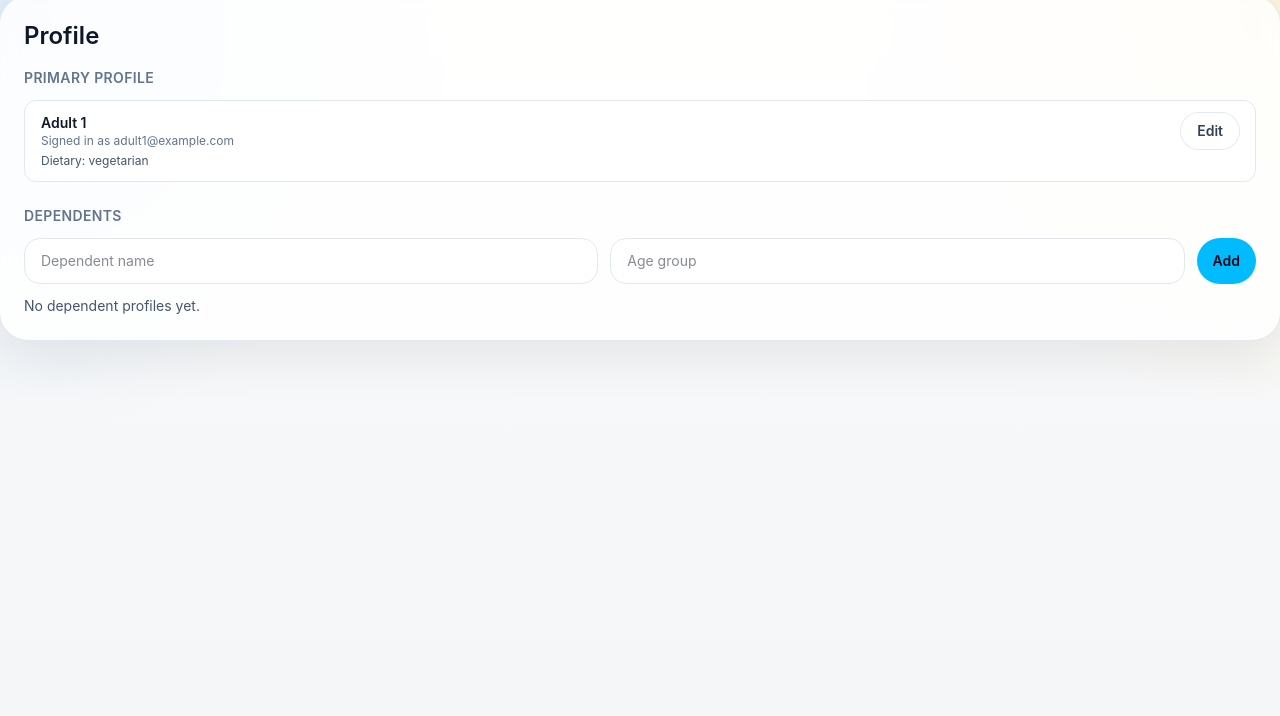
Test: ProfilePage › saves updated profile name and reflects updated value
Expected: the text "Signed in as adult1@example.com" is shown, [41, 133, 234, 148]
// Click Edit button to enter edit mode
Click the button "Edit" at (1210, 131), box [1181, 113, 1239, 149]
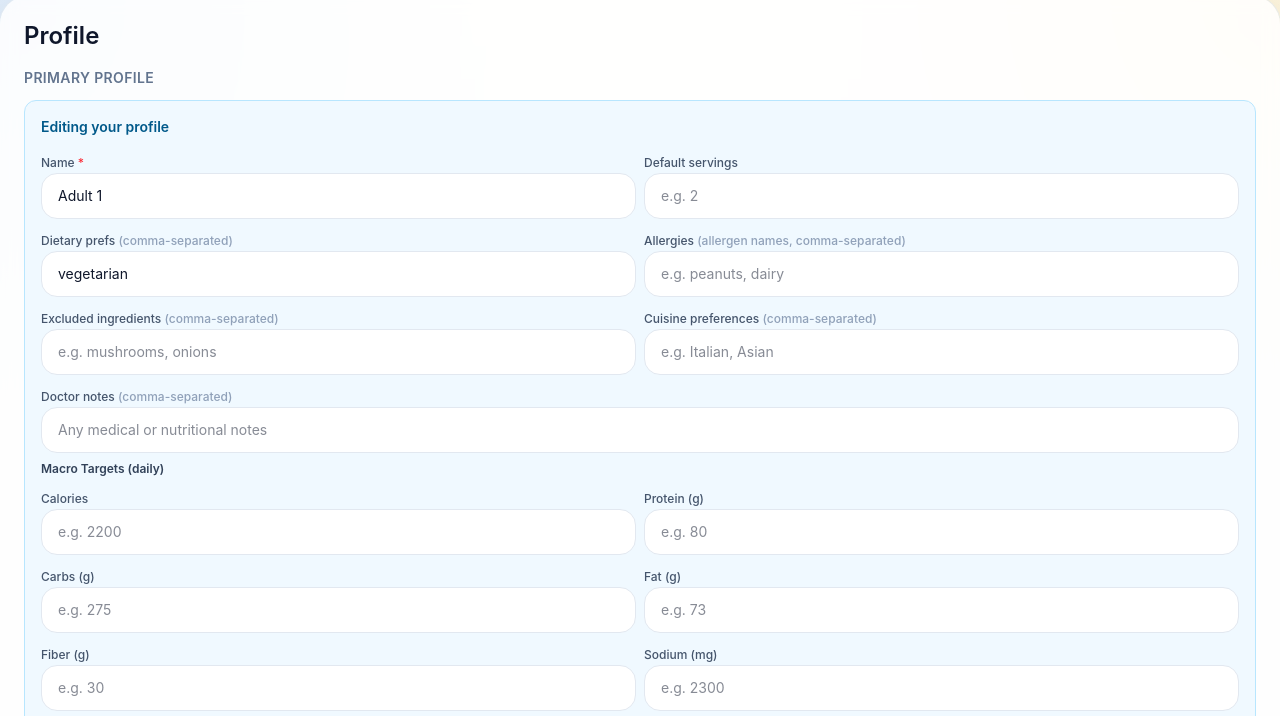
// Update the name field in the edit form
Replace the text in the field named "Name" with "Updated Name" at (338, 196), box [41, 173, 636, 219]
(page scrolled)
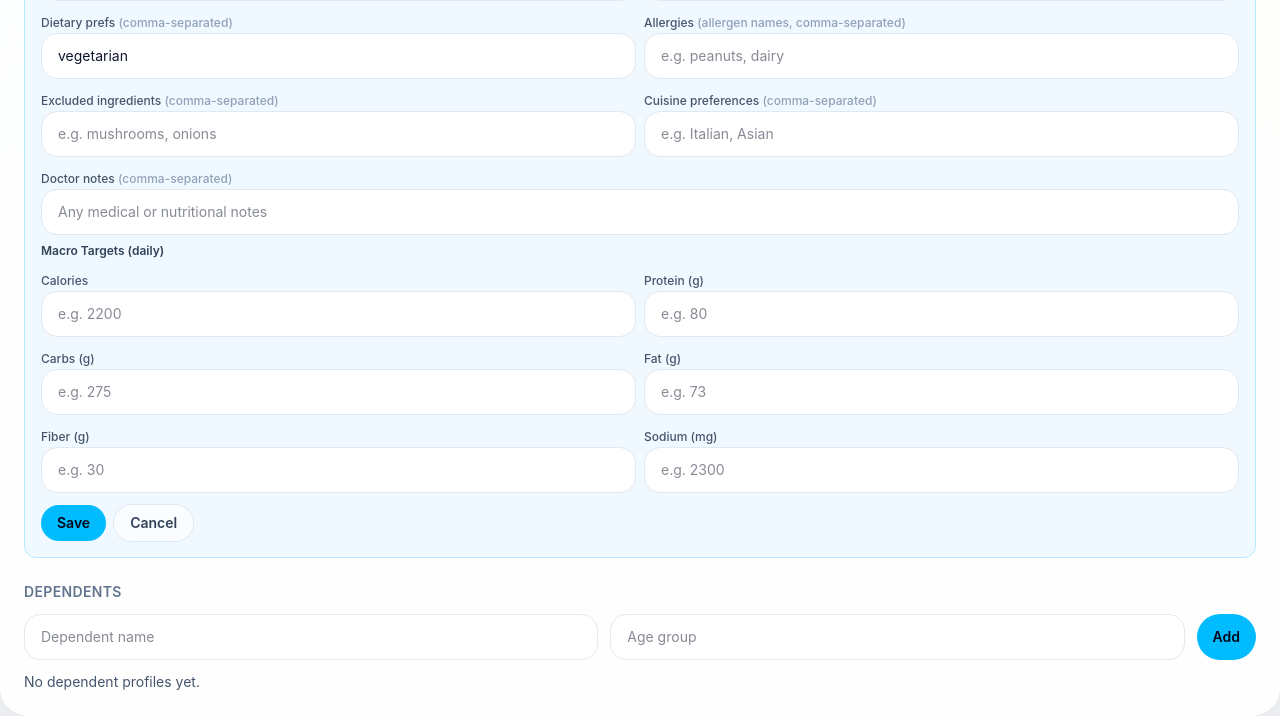
// Save the changes
Click the button "Save" at (74, 523), box [41, 505, 106, 541]
(page scrolled)
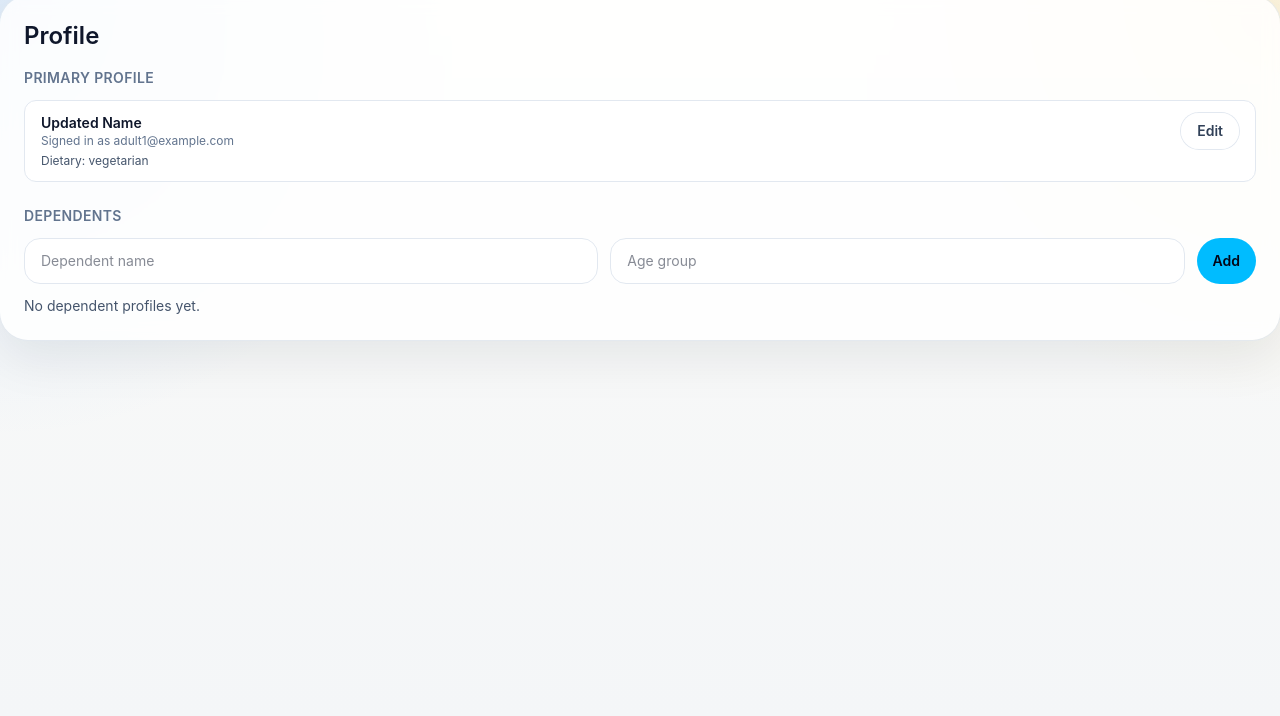
Now the text "Updated Name" is shown, box [41, 114, 142, 131]
